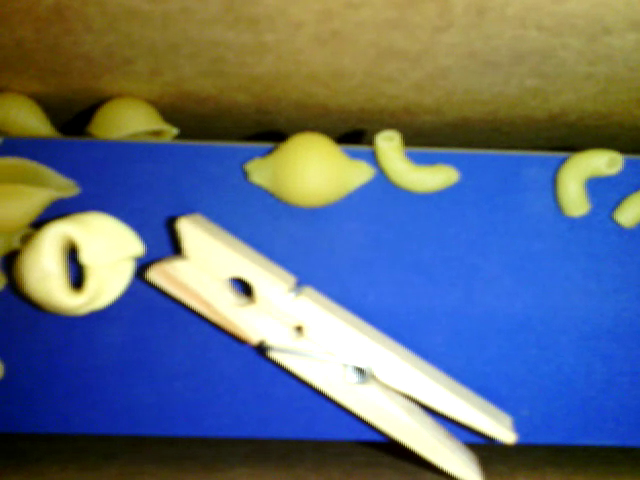elbow: (374, 123, 458, 193), (551, 147, 624, 216), (1, 221, 33, 294), (612, 183, 639, 225)
shell: (240, 128, 377, 211), (1, 149, 81, 229), (89, 93, 180, 143), (1, 85, 67, 137)
tortellini: (13, 213, 143, 318)
